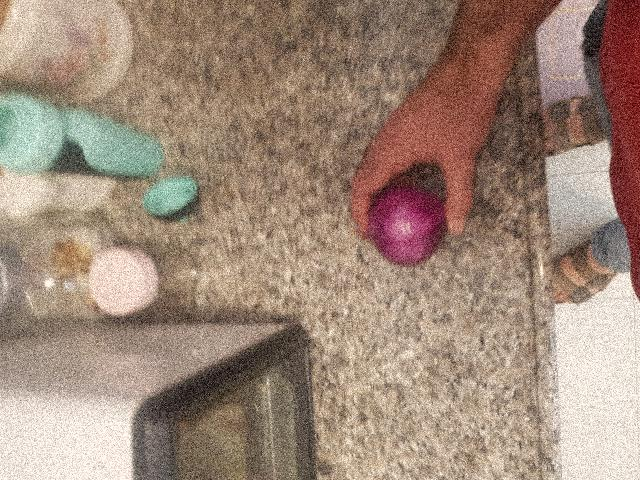onion: (222, 362, 307, 453)
